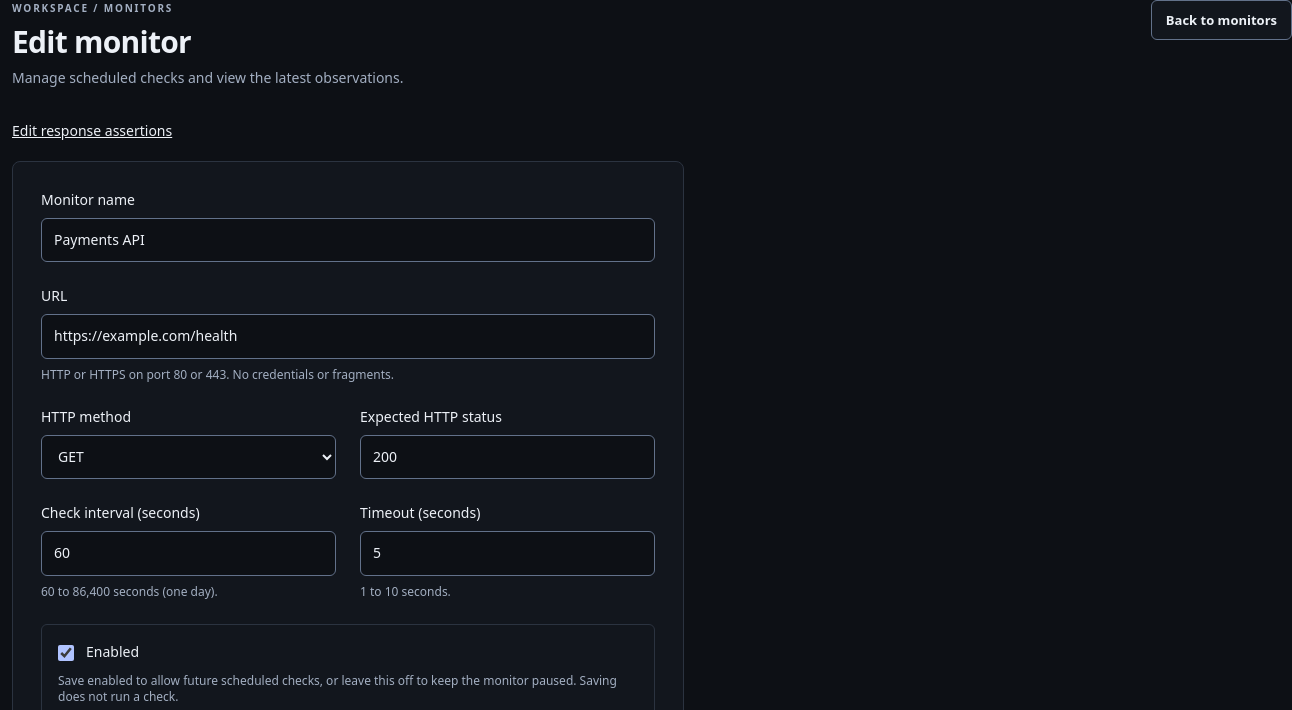
Scenario: requires explicit reload on version conflict before discarding a draft
The width and height of the screenshot is (1292, 710).
Type "Draft" into the field labelled "Monitor name" at (348, 240), box [41,218,655,262]
(page scrolled)
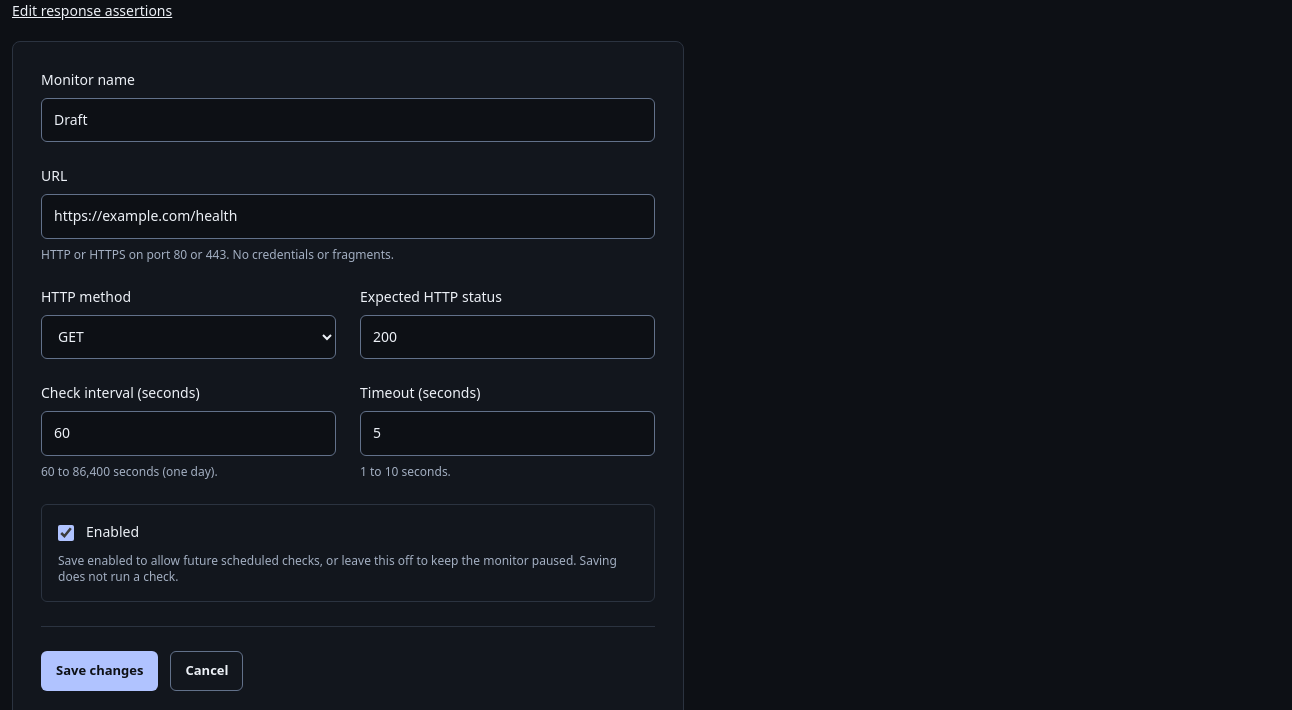
Click the button "Save changes" at (100, 671), box [41,651,158,691]
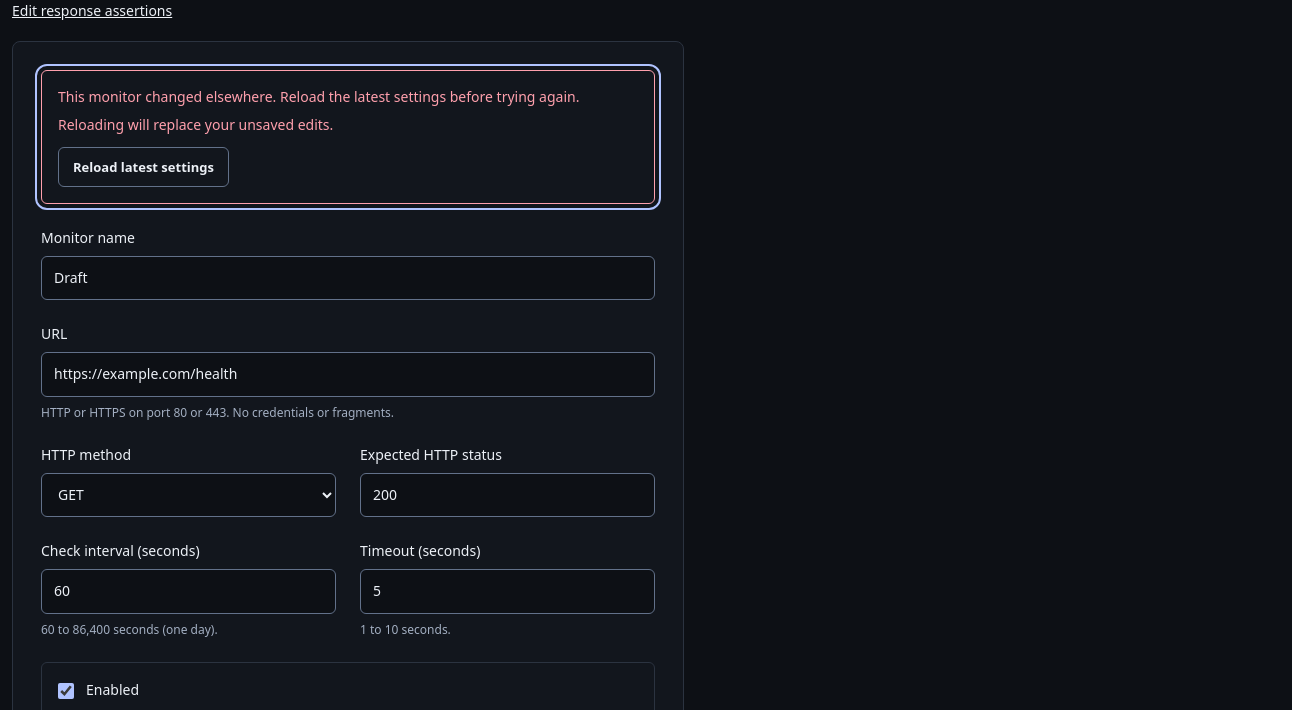
Now the message shows "replace your unsaved edits", box [58,115,333,134]
Click the button "Reload latest settings" at (144, 167), box [58,147,229,187]
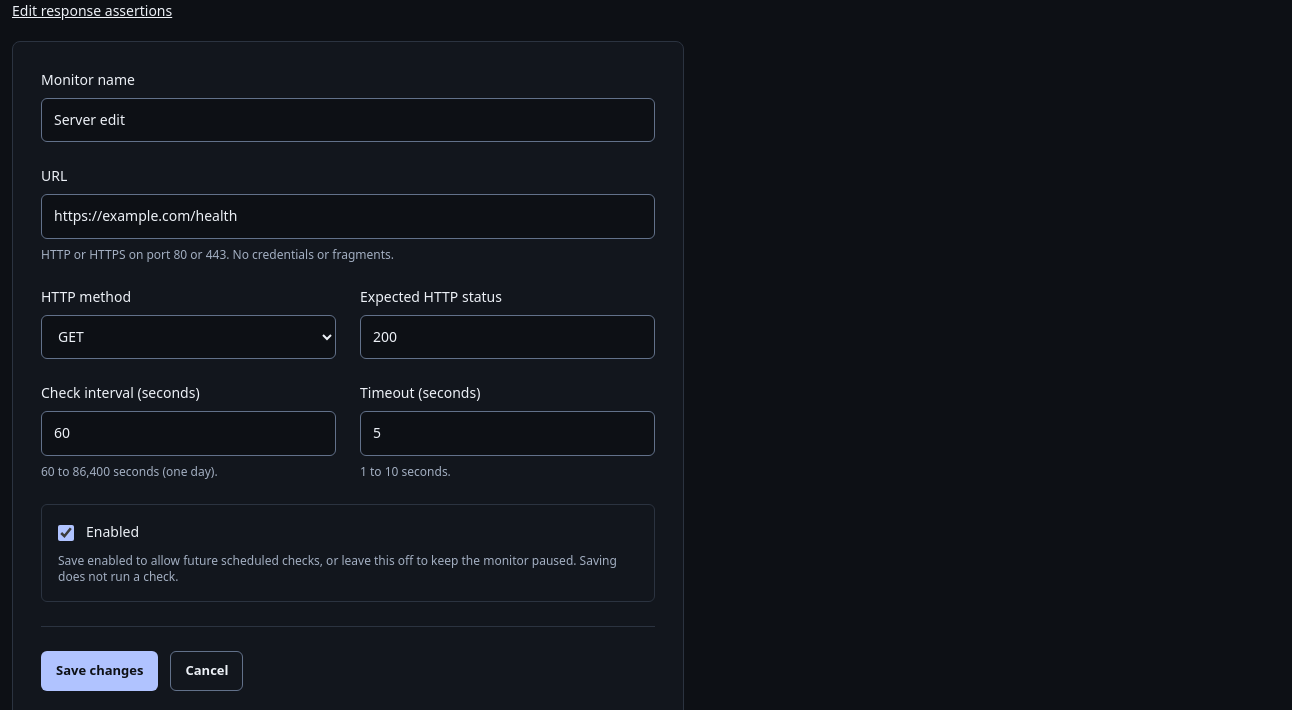
Now the field labelled "Monitor name" holds "Server edit", box [41,98,655,142]
Now the button "Save changes" is enabled, box [41,651,158,691]
